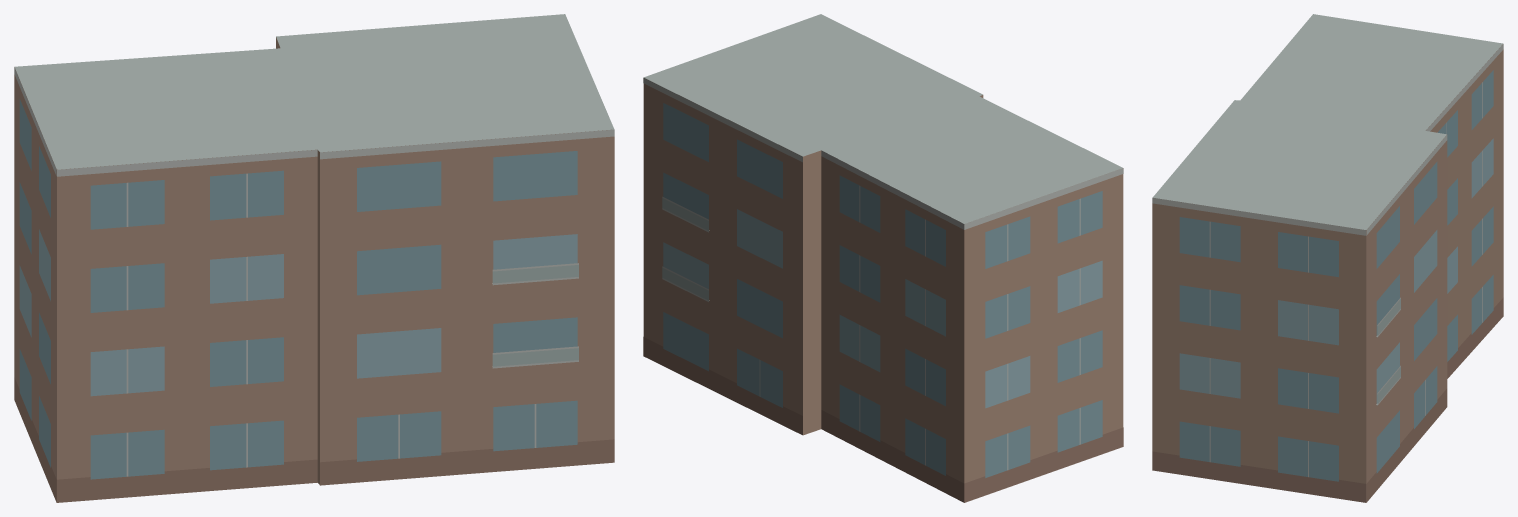
File: survey-upis-32972406.glb
3 renders of one model, left to right at view 1: azimuth 30°, elevation 25°; view 2: azimuth 150°, elevation 25°; view 3: azimuth 270°, elevation 25°, orthographic. The views are drawn at different scales.
Visible parts, largest first — view 1: survey-upis-32972406.tmp; view 2: survey-upis-32972406.tmp; view 3: survey-upis-32972406.tmp.
Part boxes in pixels (x1,y1,x2,y2): survey-upis-32972406.tmp: (14, 14, 614, 502); survey-upis-32972406.tmp: (643, 14, 1123, 502); survey-upis-32972406.tmp: (1152, 14, 1503, 502).
Size of the model in its own units: 19.72 by 11.6 by 13.54.
